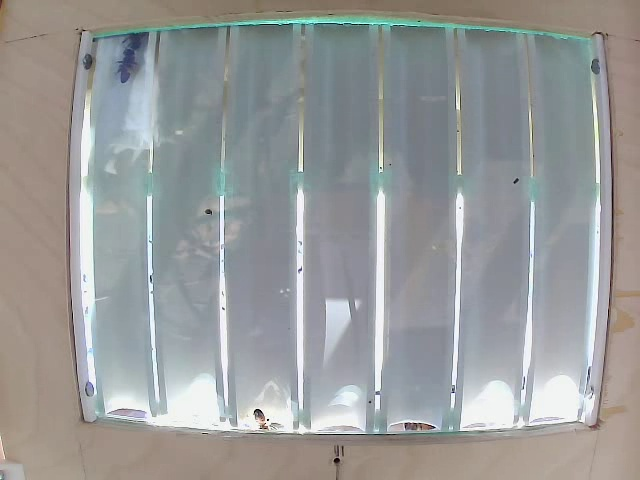bee: (113, 53, 145, 84)
